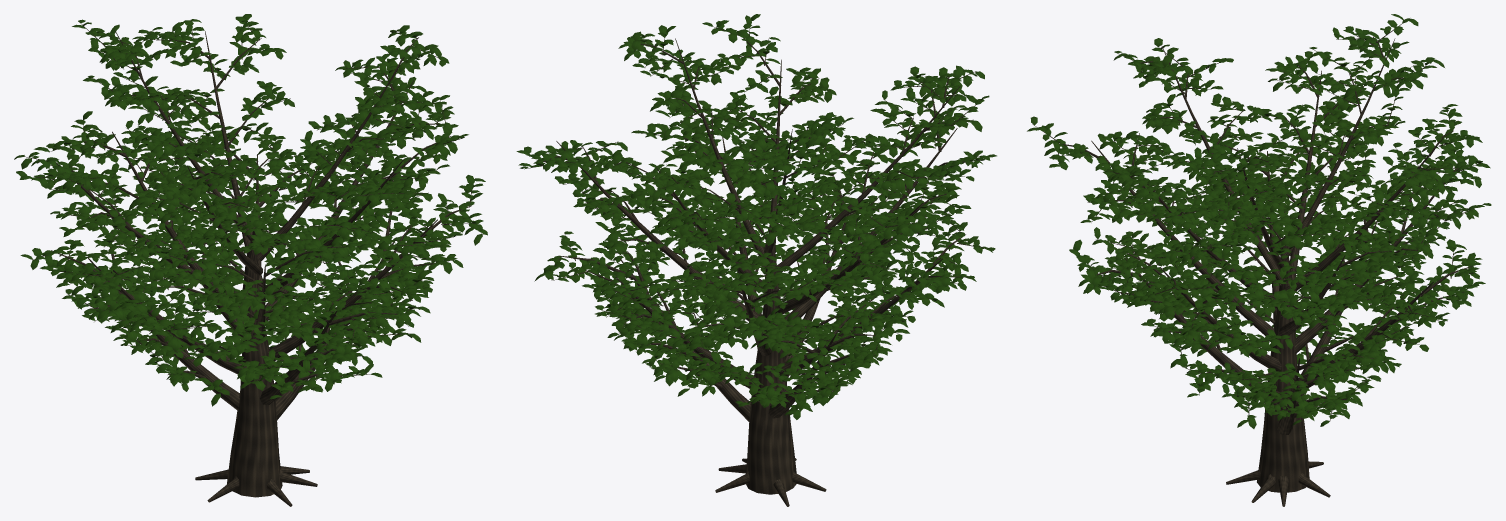
File: MatureOak_A.fbx
3 views of the same model, side by side, from view 1: azimuth 30°, elevation 25°; view 2: azimuth 150°, elevation 25°; view 3: azimuth 270°, elevation 25° (orthographic). The views are drawn at different scales.
Parts seen in each view (by area): view 1: MatureOak_A_LOD0; view 2: MatureOak_A_LOD0; view 3: MatureOak_A_LOD0.
Boxes of the visible parts, x1,y1,x2,y2 form: MatureOak_A_LOD0: (14,14,487,506); MatureOak_A_LOD0: (516,14,996,506); MatureOak_A_LOD0: (1027,14,1491,506).
Size of what is drawn, in the model's own units: 8.26 by 7.99 by 8.04.
